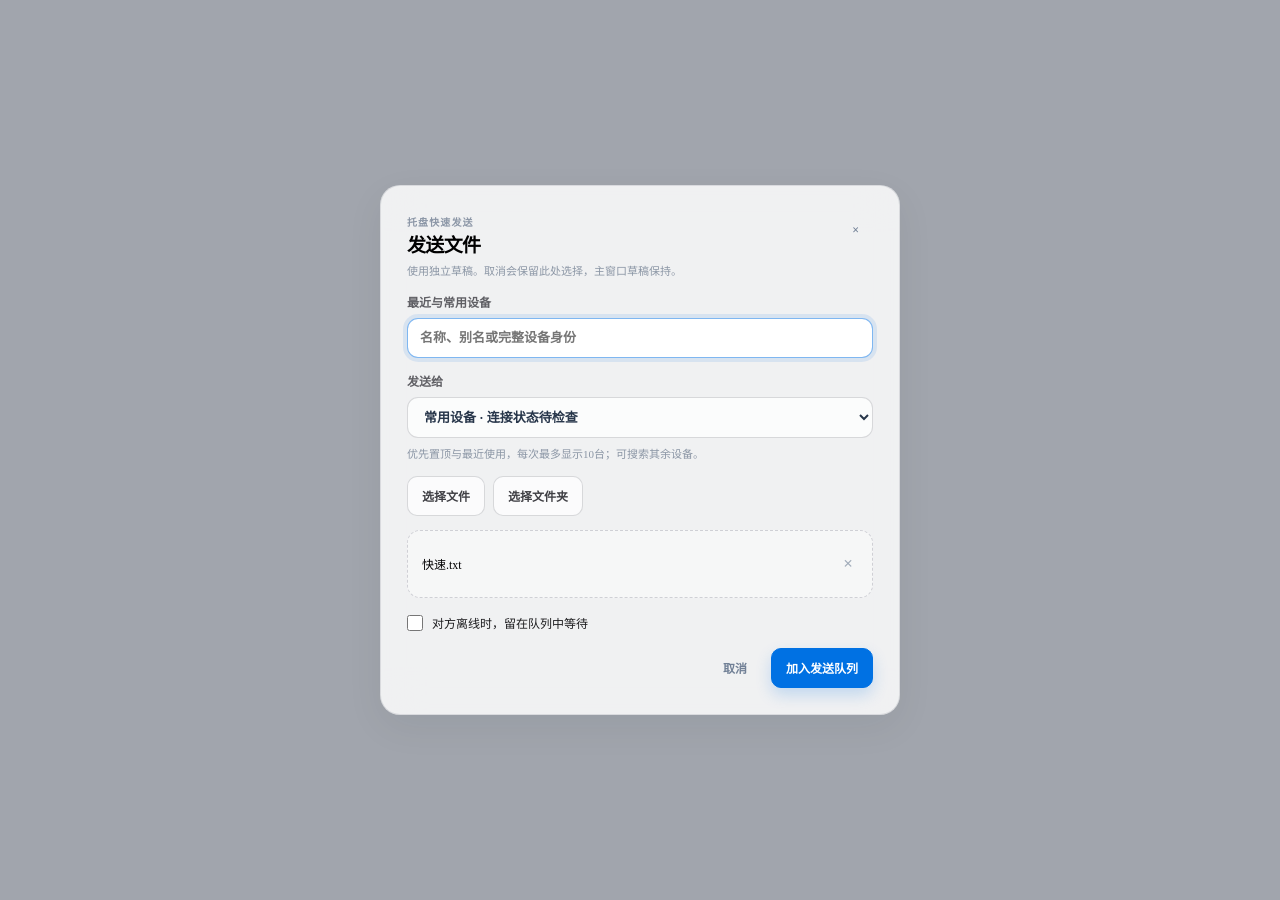
独立快速发送面板 › submits only the saved revision and clears only quick after Go success
This screenshot has width=1280, height=900.
Click the button "加入发送队列".
click(822, 668)  # box [771,648,873,688]
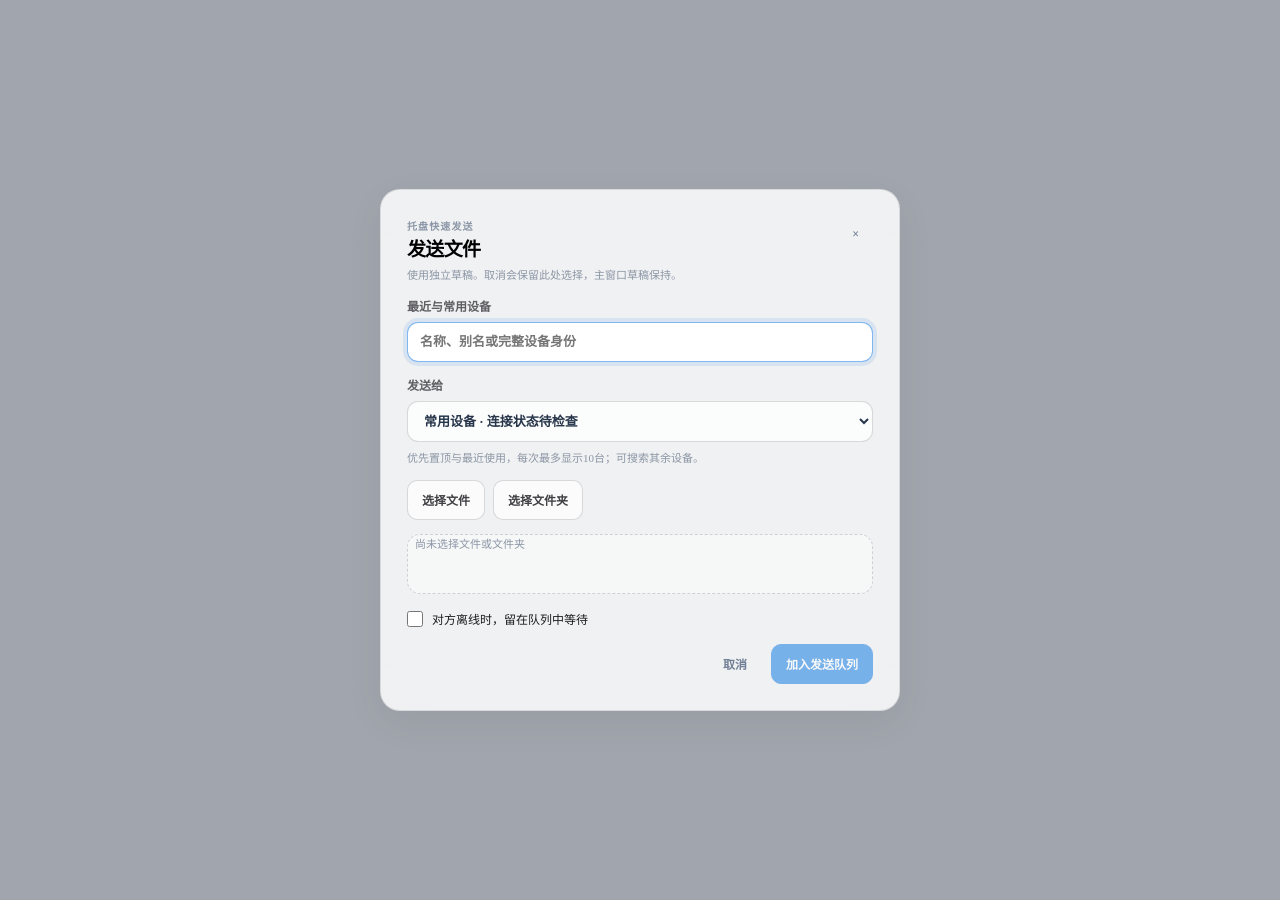
Now the text "快速.txt" is gone
